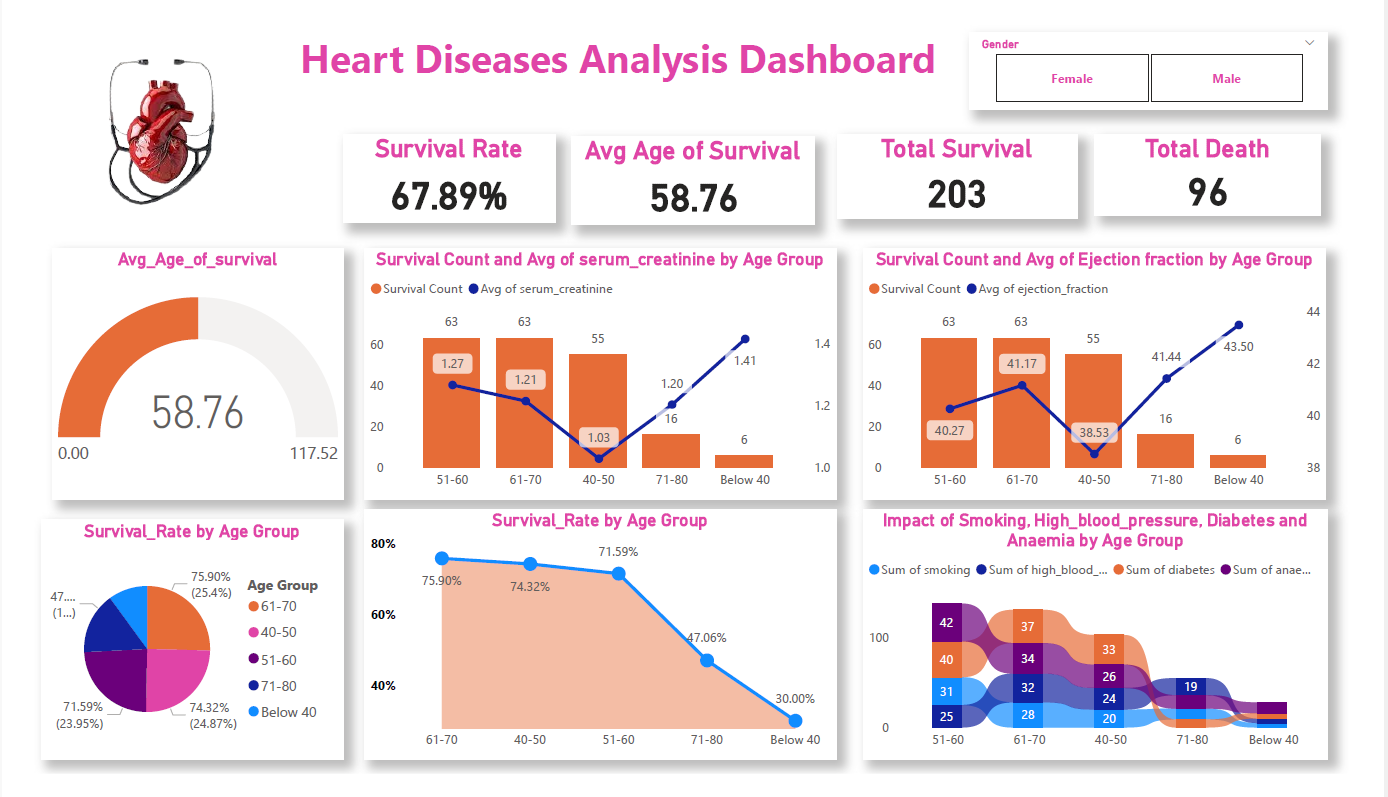

This screenshot's page, from the dashboard's own definition file:
{"tool":"powerbi","page":{"name":"Page 1","canvas":[1280,720],"ordinal":0},"visuals":[{"type":"textbox","box":[242.4,1.4,652.1,79.4],"z":1000},{"type":"card","title":"Survival Rate","fields":{"Values":["heart_Disease_clinical_records_.Survival_Rate"]},"box":[304.4,105.3,203.4,85.1],"z":2000},{"type":"card","title":"Avg Age of Survival","fields":{"Values":["heart_Disease_clinical_records_.Avg_Rate_of_survival"]},"box":[523.7,106.8,233.7,85.1],"z":3000},{"type":"card","title":"Total Survival","fields":{"Values":["heart_Disease_clinical_records_.Total_Survival"]},"box":[779.1,105.3,230.8,80.8],"z":4000},{"type":"card","title":"Total Death","fields":{"Values":["heart_Disease_clinical_records_.Total_Death"]},"box":[1027.2,105.3,216.4,77.9],"z":5000},{"type":"lineClusteredColumnComboChart","fields":{"Category":["heart_Disease_clinical_records_.Age Group"],"Y":["CountNonNull(heart_Disease_clinical_records_.DEATH_EVENT)"],"Y2":["Avg(heart_Disease_clinical_records_.serum_creatinine)"]},"box":[324.6,215,453,240.9],"z":6000},{"type":"lineClusteredColumnComboChart","title":"Survival Count and Avg of Ejection fraction by Age Group","fields":{"Category":["heart_Disease_clinical_records_.Age Group"],"Y":["CountNonNull(heart_Disease_clinical_records_.DEATH_EVENT)"],"Y2":["Avg(heart_Disease_clinical_records_.ejection_fraction)"]},"box":[803.6,215,445.8,240.9],"z":7000},{"type":"lineChart","fields":{"Category":["heart_Disease_clinical_records_.Age Group"],"Y":["heart_Disease_clinical_records_.Survival_Rate"]},"box":[324.6,466,453,239.5],"z":8000},{"type":"ribbonChart","title":"Impact of Smoking, High_blood_pressure, Diabetes and Anaemia by Age Group","fields":{"Category":["heart_Disease_clinical_records_.Age Group"],"Y":["Sum(heart_Disease_clinical_records_.smoking)","Sum(heart_Disease_clinical_records_.high_blood_pressure)","Sum(heart_Disease_clinical_records_.diabetes)","Sum(heart_Disease_clinical_records_.anaemia)"]},"box":[803.6,466,447.3,239.5],"z":9000},{"type":"slicer","fields":{"Values":["heart_Disease_clinical_records_.Gender"]},"box":[906.1,7.2,344.8,73.6],"z":10000},{"type":"image","box":[24.5,11.5,207.8,178.9],"z":11001},{"type":"pieChart","fields":{"Y":["heart_Disease_clinical_records_.Survival_Rate"],"Category":["heart_Disease_clinical_records_.Age Group"]},"box":[14.4,476.1,290,229.4],"z":11002},{"type":"gauge","fields":{"Y":["heart_Disease_clinical_records_.Avg_Age_of_survival"]},"box":[24.5,215,279.9,240.9],"z":11003}]}

Visuals, with their boxes in screenshot pixels (x1, y1, x2, y2), scaled from the page's 1280x720 canvas onto the 1388x797 screenshot:
textbox: {"left": 263, "top": 2, "right": 970, "bottom": 89}
"Survival Rate" card: {"left": 330, "top": 117, "right": 551, "bottom": 211}
"Avg Age of Survival" card: {"left": 568, "top": 118, "right": 821, "bottom": 212}
"Total Survival" card: {"left": 845, "top": 117, "right": 1095, "bottom": 206}
"Total Death" card: {"left": 1114, "top": 117, "right": 1349, "bottom": 203}
lineClusteredColumnComboChart - heart_Disease_clinical_records_.Age Group x CountNonNull(heart_Disease_clinical_records_.DEATH_EVENT): {"left": 352, "top": 238, "right": 843, "bottom": 505}
"Survival Count and Avg of Ejection fraction by Age Group" lineClusteredColumnComboChart: {"left": 871, "top": 238, "right": 1355, "bottom": 505}
lineChart - heart_Disease_clinical_records_.Age Group x heart_Disease_clinical_records_.Survival_Rate: {"left": 352, "top": 516, "right": 843, "bottom": 781}
"Impact of Smoking, High_blood_pressure, Diabetes and Anaemia by Age Group" ribbonChart: {"left": 871, "top": 516, "right": 1356, "bottom": 781}
slicer - heart_Disease_clinical_records_.Gender: {"left": 983, "top": 8, "right": 1356, "bottom": 89}
image: {"left": 27, "top": 13, "right": 252, "bottom": 211}
pieChart - heart_Disease_clinical_records_.Survival_Rate x heart_Disease_clinical_records_.Age Group: {"left": 16, "top": 527, "right": 330, "bottom": 781}
gauge - heart_Disease_clinical_records_.Avg_Age_of_survival: {"left": 27, "top": 238, "right": 330, "bottom": 505}
